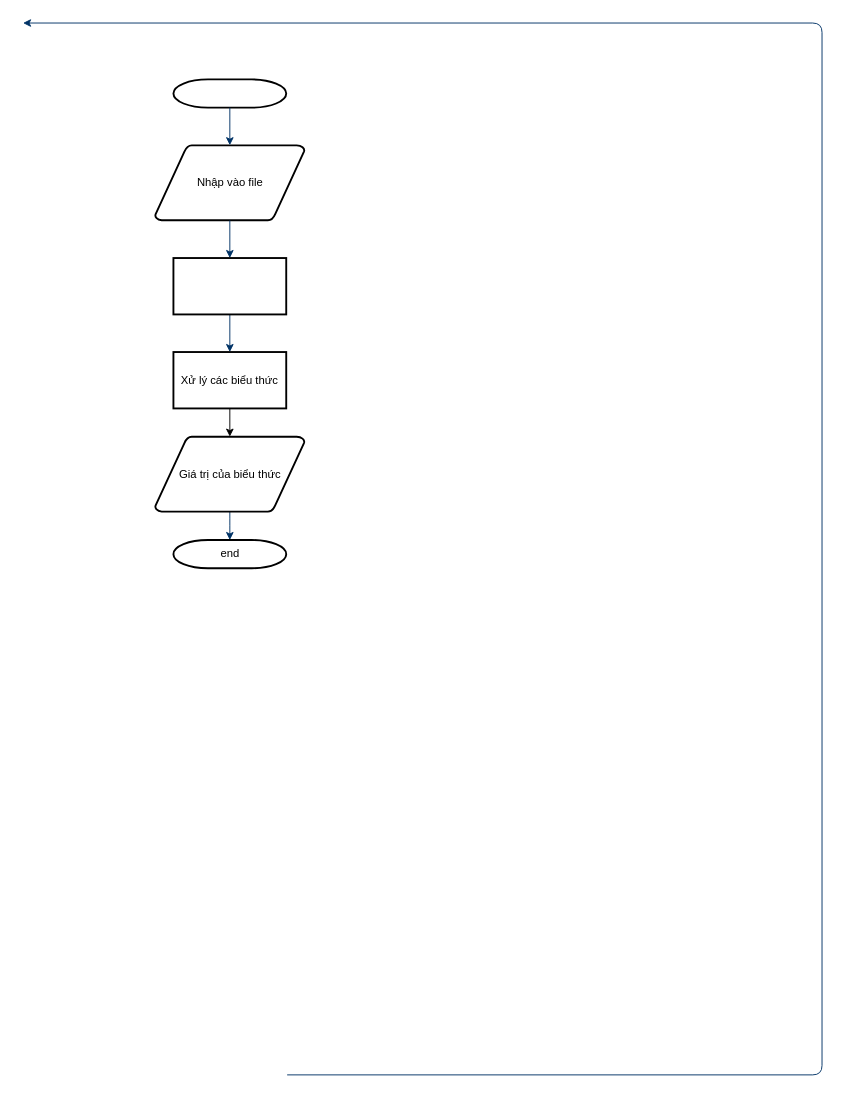
The diagram is 846 pixels wide and 1099 high, and some of its shapes have lost their labels. The box of each missing label's shape, as (x1, y1, x2, y2) in pixels:
Bắt đầu: (172, 78, 287, 108)
Đọc từng dòng: (172, 257, 287, 315)
